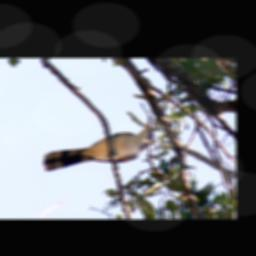Cuckoo: (40, 116, 154, 174)
